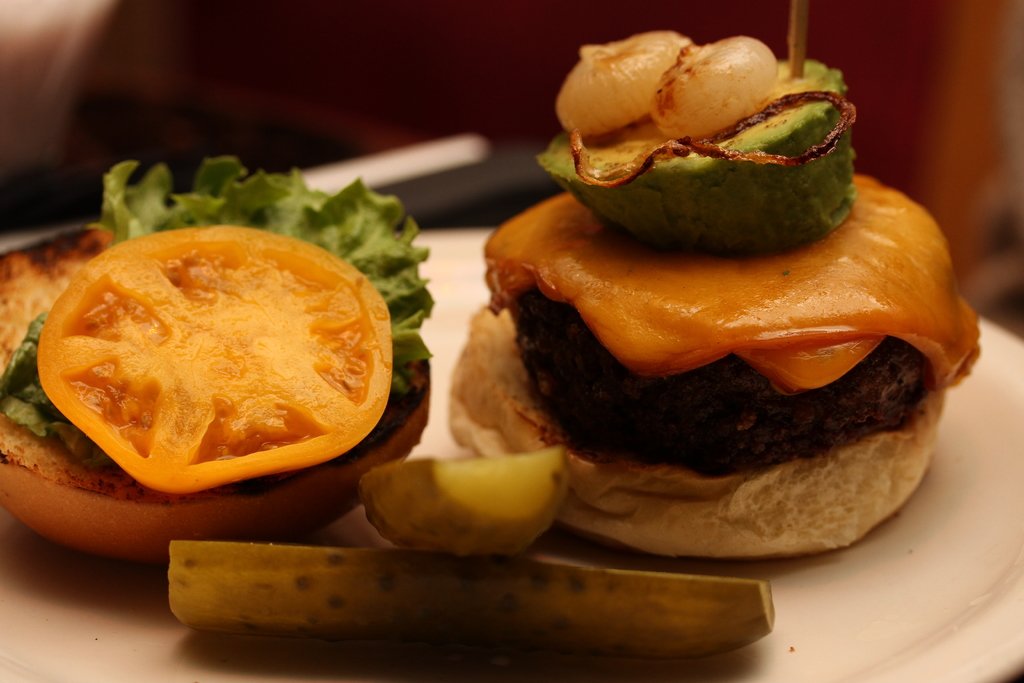Hamburger: (448, 28, 981, 554), (0, 157, 433, 559)
